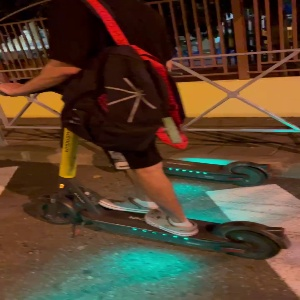human on a scooter: (1, 1, 292, 268)
